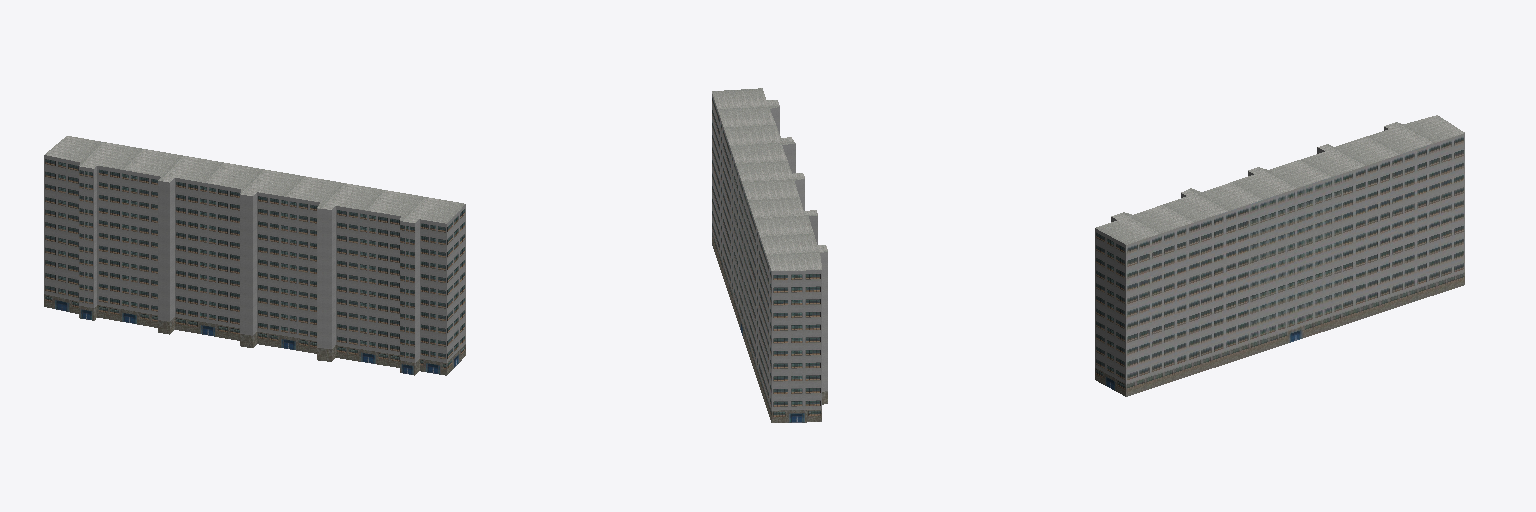
3 renders of one model, left to right at view 1: azimuth 30°, elevation 25°; view 2: azimuth 150°, elevation 25°; view 3: azimuth 270°, elevation 25°, orthographic.
Parts seen in each view (by area): view 1: BuildingMaster_[number redacted]_0, BuildingMaster_[number redacted]_1; view 2: BuildingMaster_[number redacted]_0, BuildingMaster_[number redacted]_1; view 3: BuildingMaster_[number redacted]_0, BuildingMaster_[number redacted]_1.
Part boxes in pixels (left/top/right/bottom): BuildingMaster_[number redacted]_0: left=44, top=155, right=465, bottom=375; BuildingMaster_[number redacted]_1: left=45, top=136, right=464, bottom=223; BuildingMaster_[number redacted]_0: left=712, top=94, right=827, bottom=422; BuildingMaster_[number redacted]_1: left=712, top=88, right=827, bottom=270; BuildingMaster_[number redacted]_0: left=1095, top=127, right=1464, bottom=396; BuildingMaster_[number redacted]_1: left=1096, top=115, right=1464, bottom=244.
Bounding box in the file's own units: 77 × 42 × 92.8.
Materials: 2 (2 with a texture image).